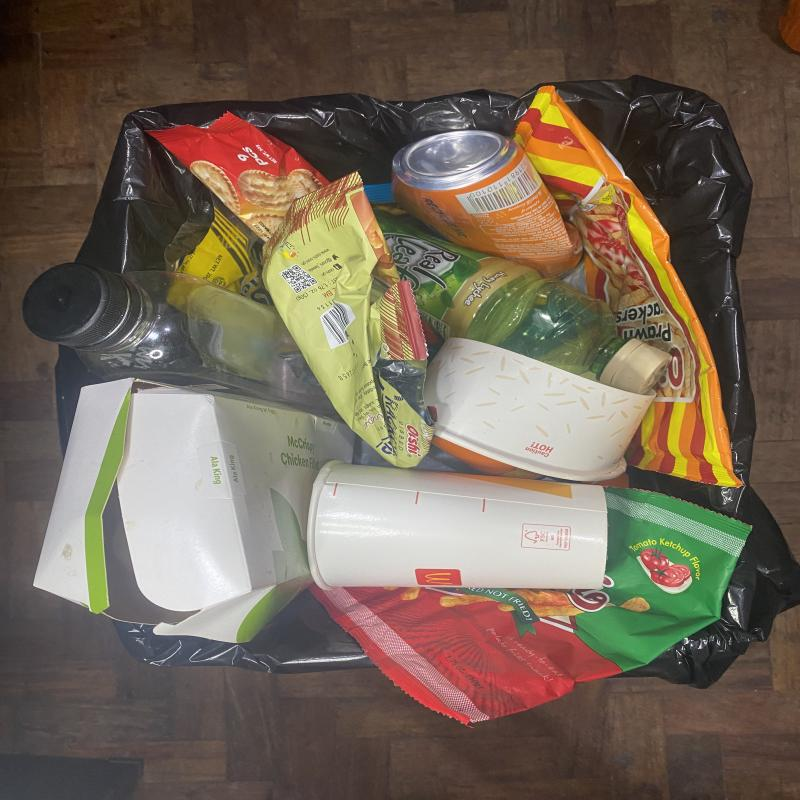aluminum: (392, 132, 582, 282)
cardboard: (32, 372, 394, 644), (303, 460, 607, 593), (426, 336, 655, 482)
food wrapper: (310, 484, 751, 729), (516, 86, 743, 487), (263, 174, 433, 467), (140, 110, 327, 245), (161, 182, 271, 306)
plastic bottle: (372, 202, 680, 395), (21, 260, 341, 422)
